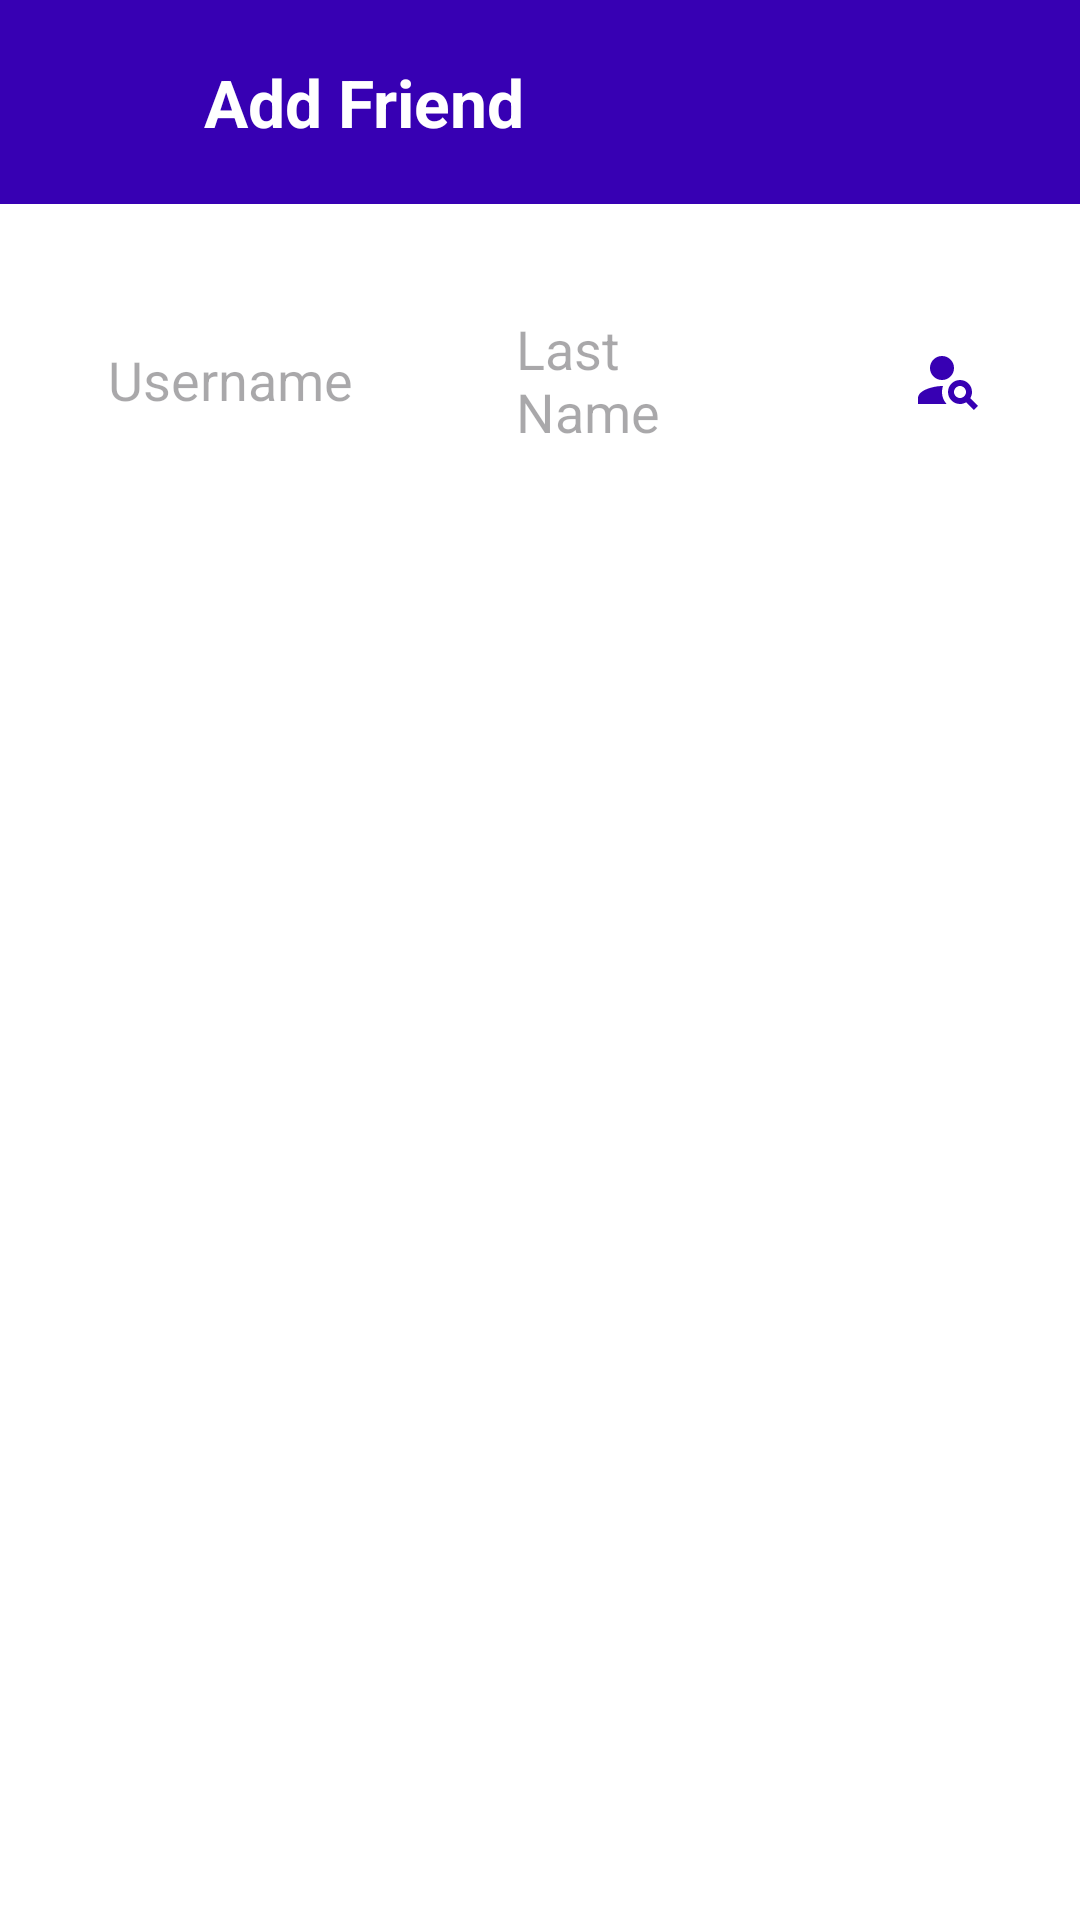

Icon bounding boxes for this 1080*1920 phone screenshot, format (x1, y1, x2, y2):
Search for User: (918, 356, 978, 410)
